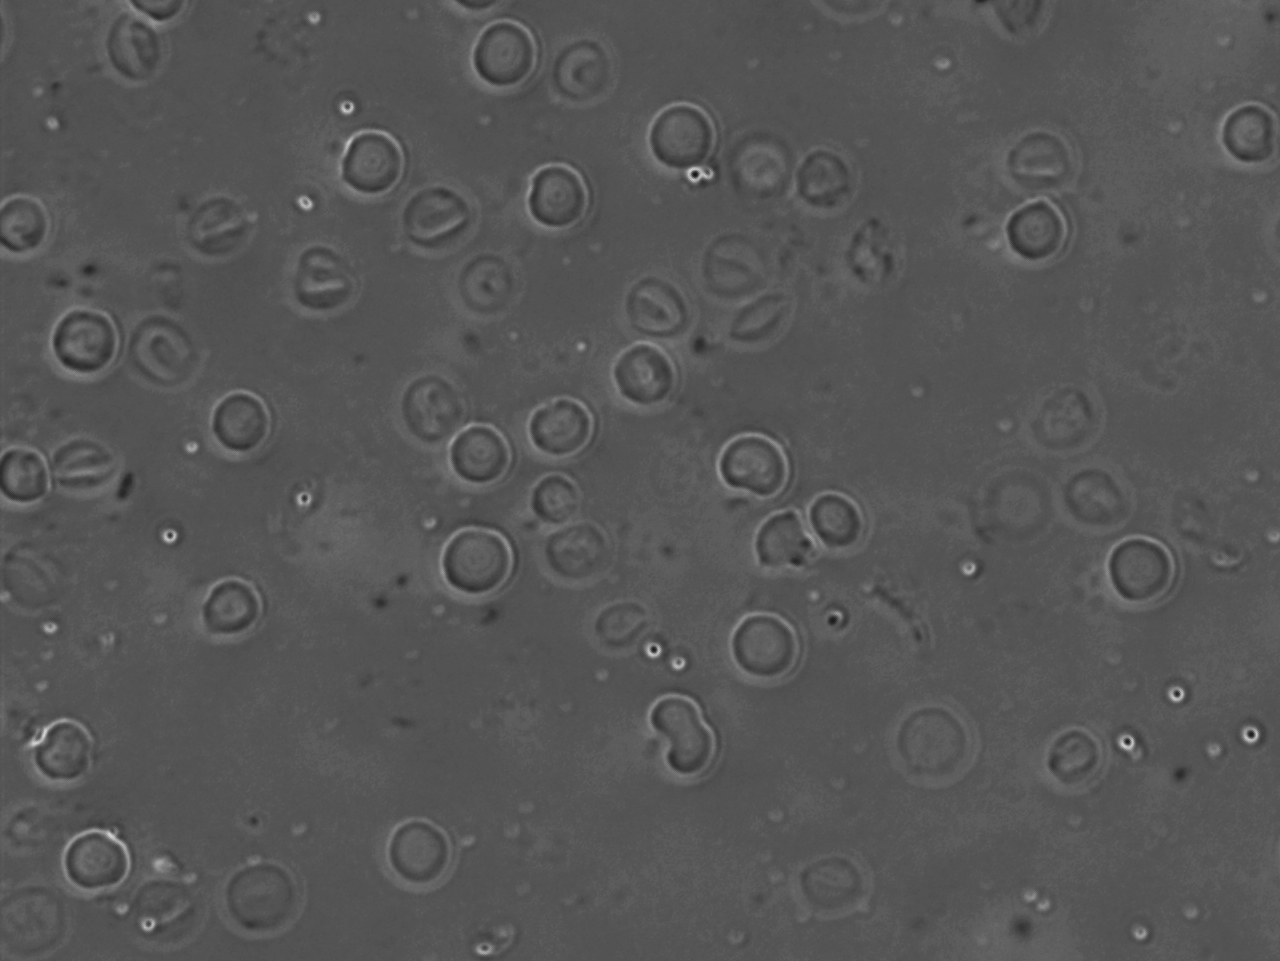depth:0: (465, 12, 556, 106), (430, 520, 525, 610), (710, 423, 806, 507), (597, 330, 694, 413), (1098, 527, 1193, 610), (641, 93, 730, 180), (371, 815, 468, 893), (43, 295, 135, 378), (722, 603, 810, 688), (998, 186, 1089, 269), (195, 383, 285, 465), (433, 407, 519, 490), (799, 486, 882, 570), (516, 155, 605, 232), (52, 813, 129, 897), (25, 710, 107, 788), (191, 566, 269, 649), (518, 386, 597, 466), (330, 119, 409, 197), (1208, 95, 1280, 176)
